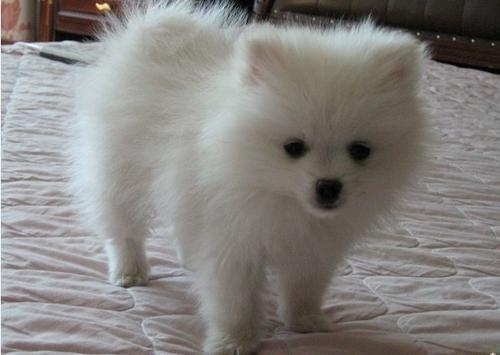dog: (224, 23, 431, 227)
